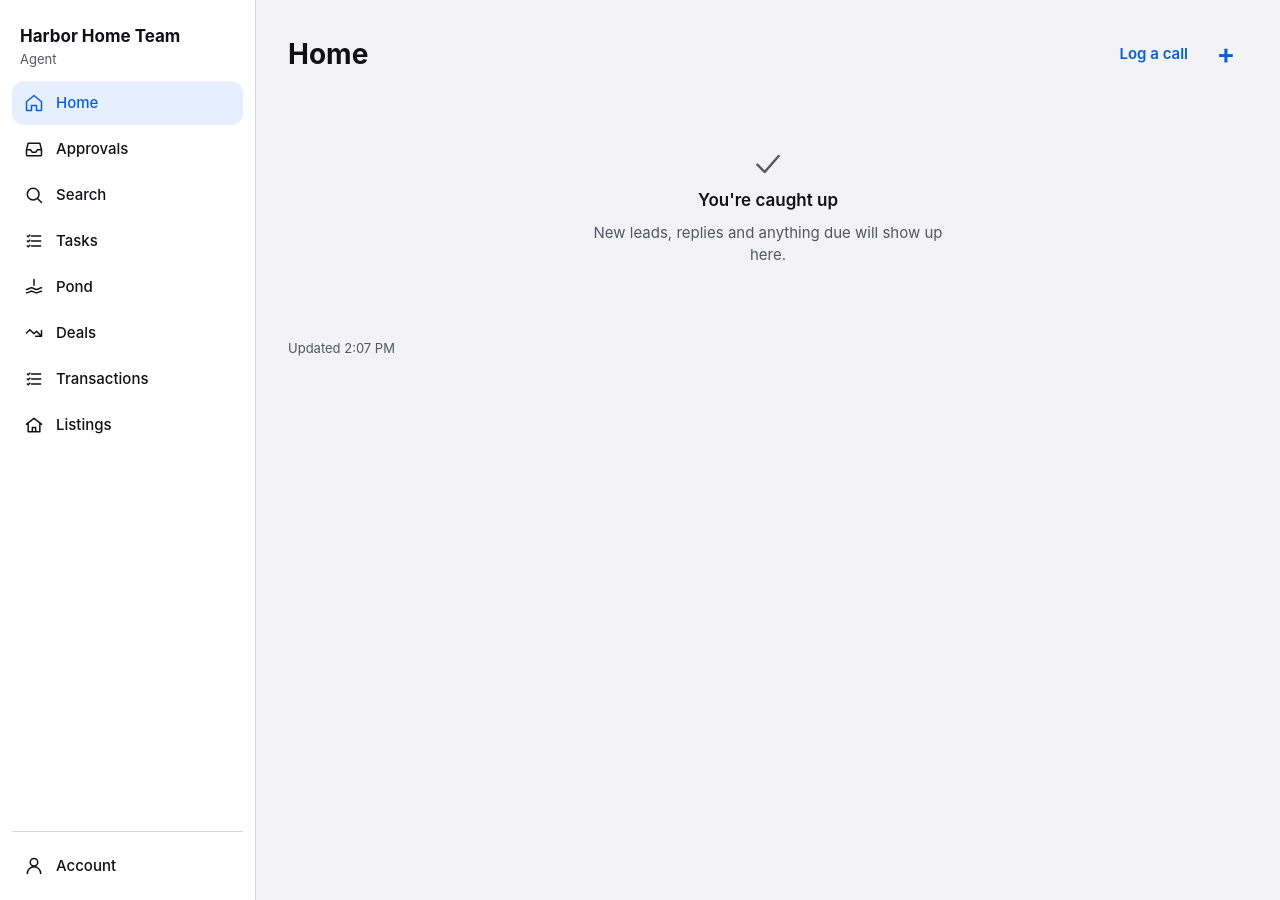
it: R-TODAY-9: "Log a call or conversation" from any screen › … an error offers Try again
The image size is (1280, 900).
Click the button with aria-label "Log a call or conversation". click: click(1154, 54)
box: [1112,32,1196,76]
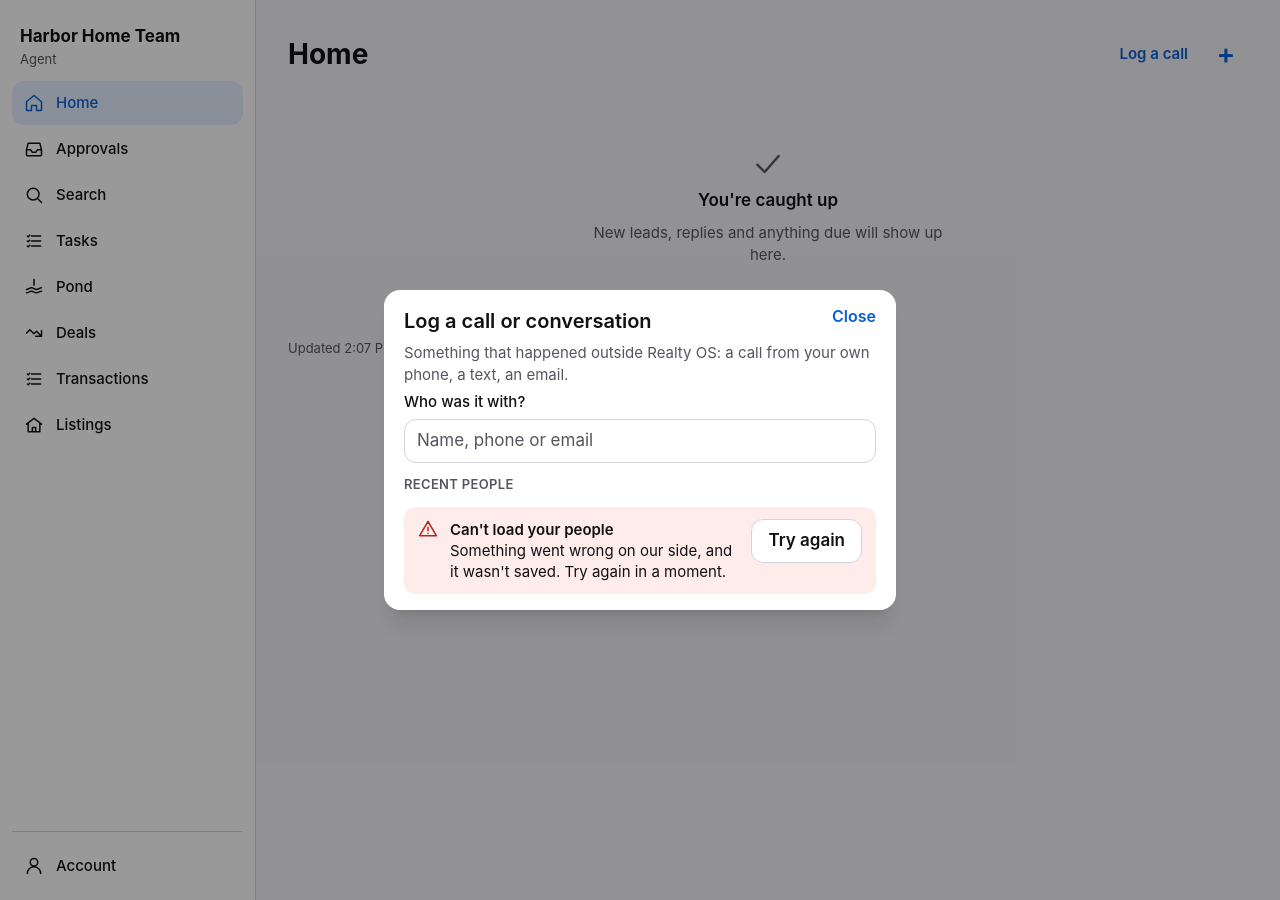
expect the text "Can't load your people" is shown: met, box [450,520,614,539]
expect the button "Try again" is shown: met, box [751,519,862,563]
